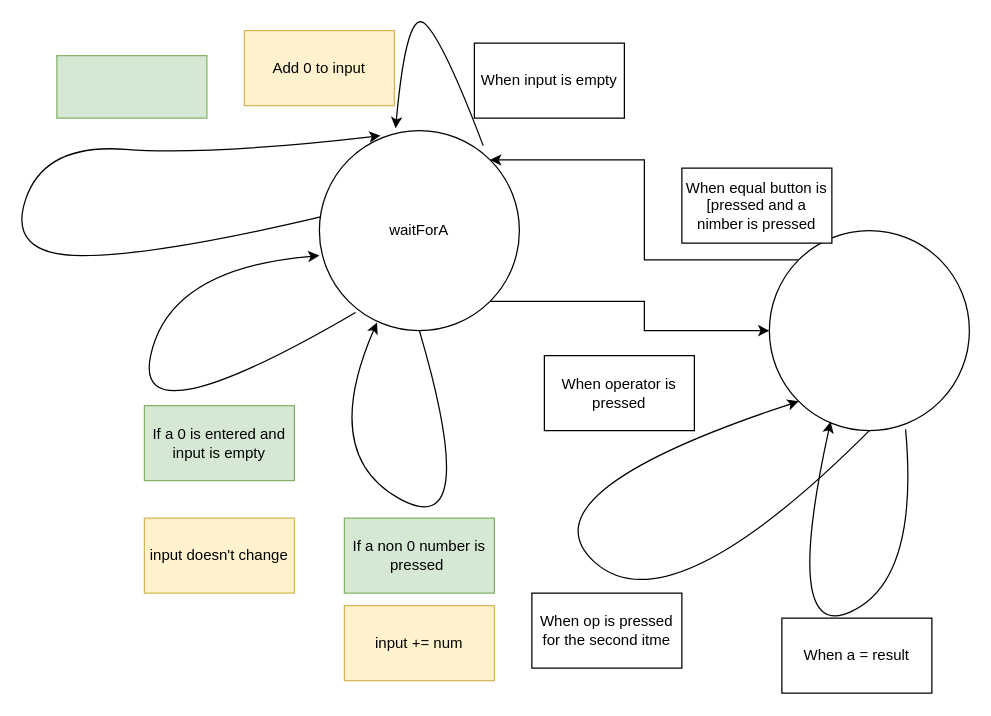
This 991x716 diagram has some shape labels left out. Here are the shapes that lost their labels. From the top down, the centre of each, then its label:
At (131,86): "If a 0 is entered but input is not empty".
At (868,330): "waitForB".
